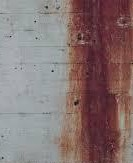Corrosion: (57, 1, 133, 163)
